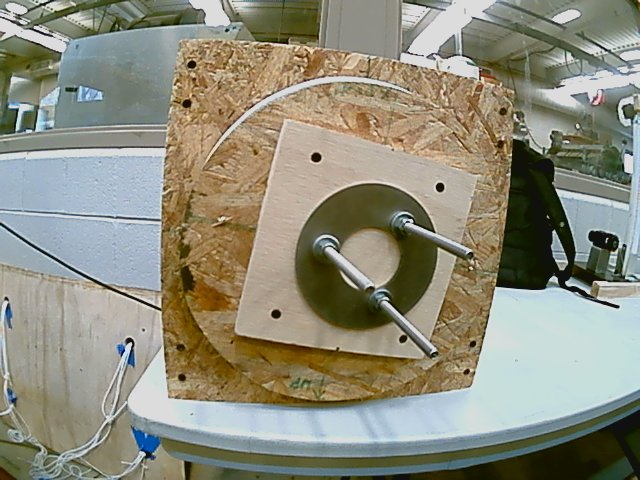bolt: (361, 283, 377, 298), (427, 348, 440, 361), (462, 249, 474, 262)
